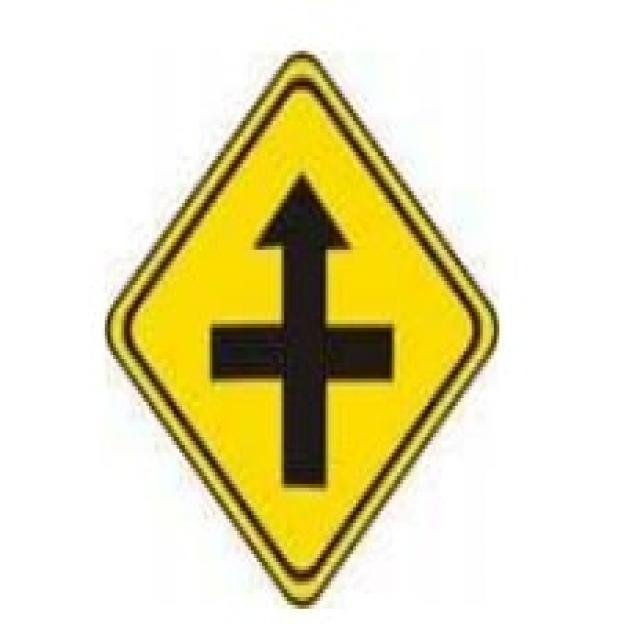Persimpangan 3 Prioritas: (102, 42, 502, 616)
